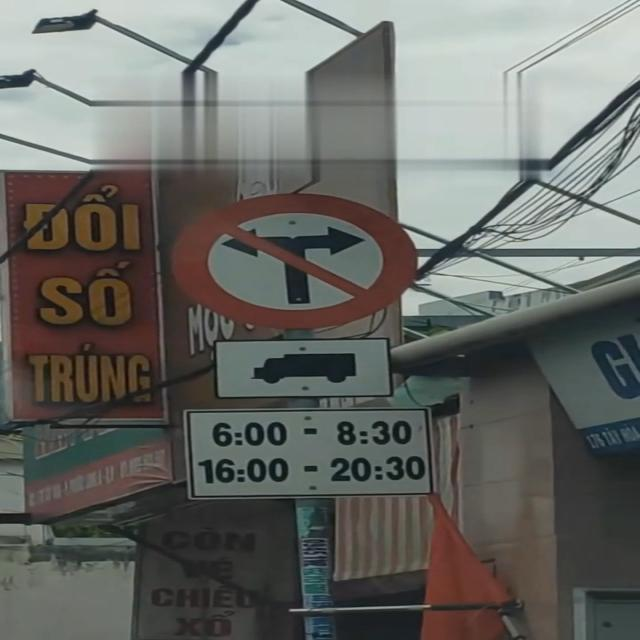137-cam-re-trai-va-re-phai: (169, 190, 417, 325)
